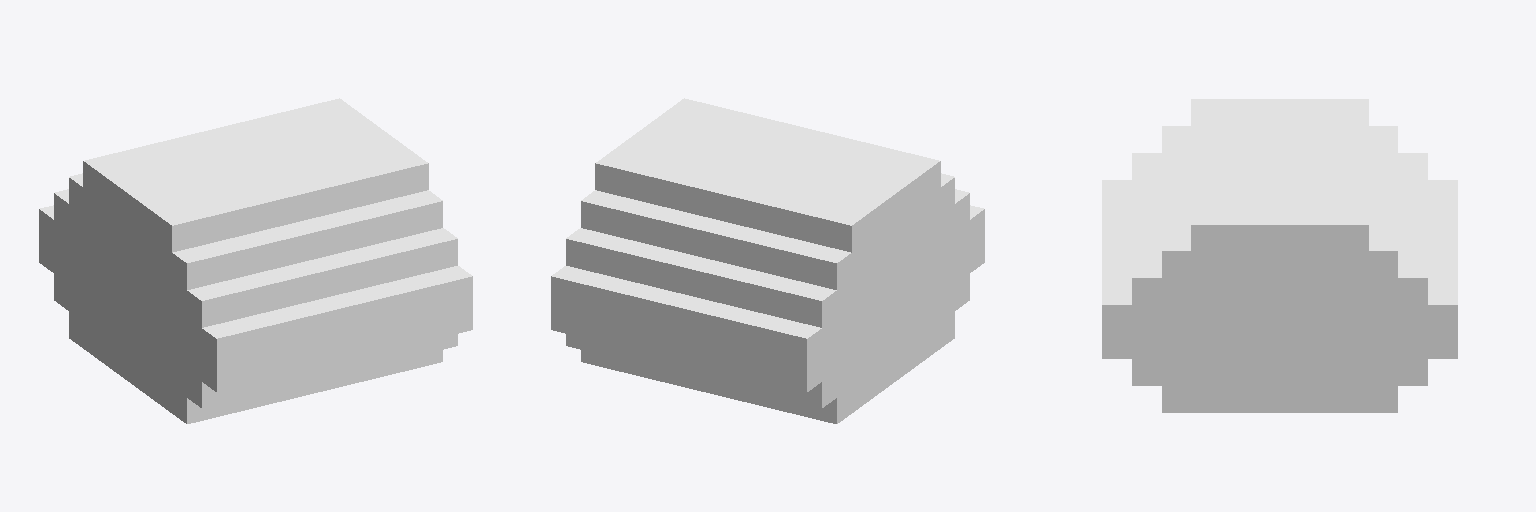
File: TailObj.obj
The picture shows the model from 3 angles: view 1: azimuth 30°, elevation 25°; view 2: azimuth 150°, elevation 25°; view 3: azimuth 270°, elevation 25°; orthographic projection.
Visible parts, largest first — view 1: object 1; view 2: object 1; view 3: object 1.
Boxes of the visible parts, box(x1,y1,x2,y2) form: object 1: box(39, 98, 472, 423); object 1: box(551, 98, 984, 423); object 1: box(1102, 99, 1457, 412).
Bounding box in the file's own units: 1 × 0.7 × 1.2.